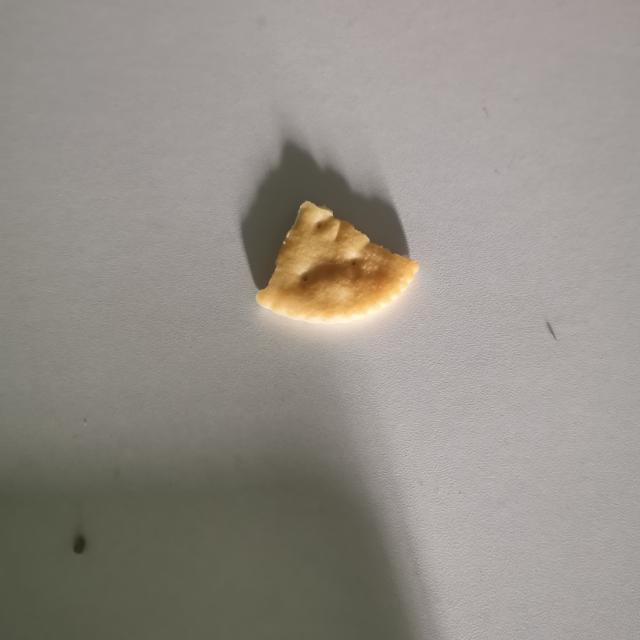Broken: (255, 199, 420, 324)
